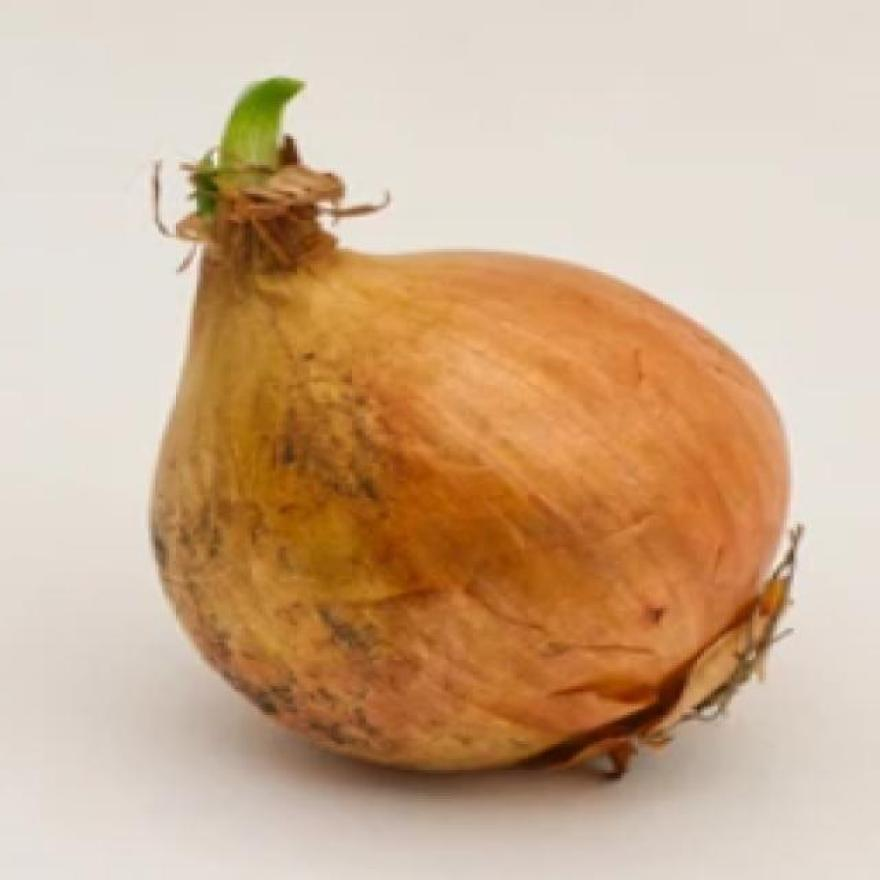Sprouted: (204, 67, 318, 255)
